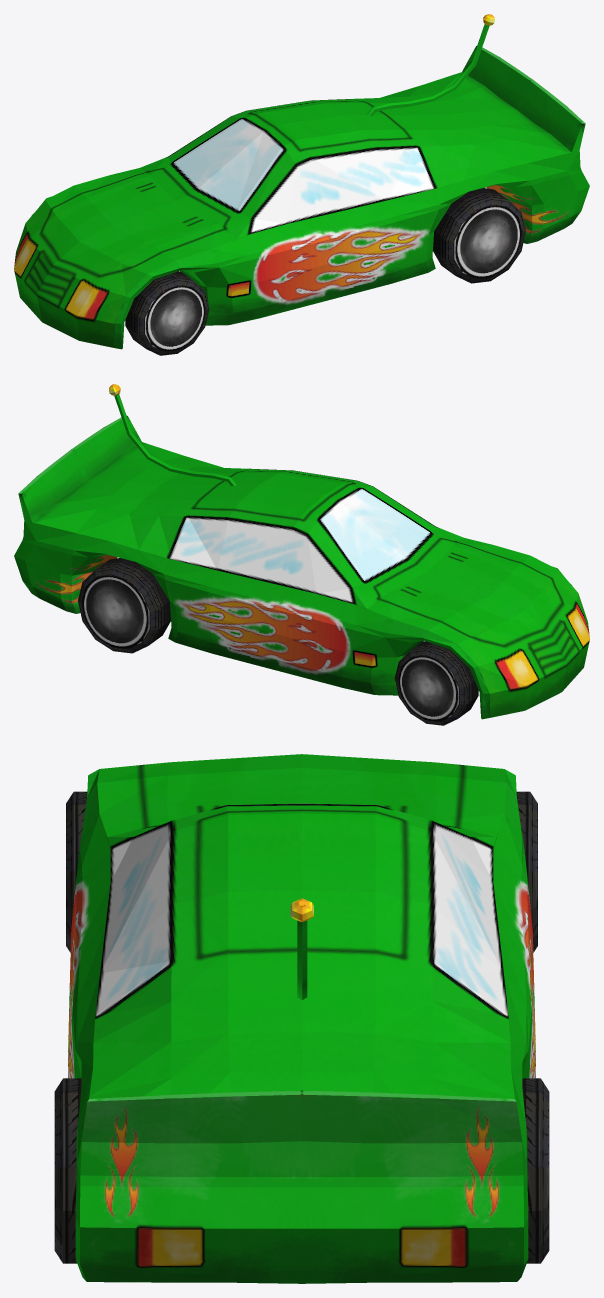
File: Auto_01_TL.FBX
The picture shows the model from 3 angles, top to bottom: view 1: azimuth 30°, elevation 25°; view 2: azimuth 150°, elevation 25°; view 3: azimuth 270°, elevation 25°; orthographic projection. The views are drawn at different scales.
Parts seen in each view (by area): view 1: Auto; view 2: Auto; view 3: Auto.
Boxes of the visible parts, x1,y1,x2,y2 form: Auto: (14,14,589,355); Auto: (14,384,589,725); Auto: (54,754,549,1283).
Size of the model in its own units: 99.59 by 39.77 by 42.75.
